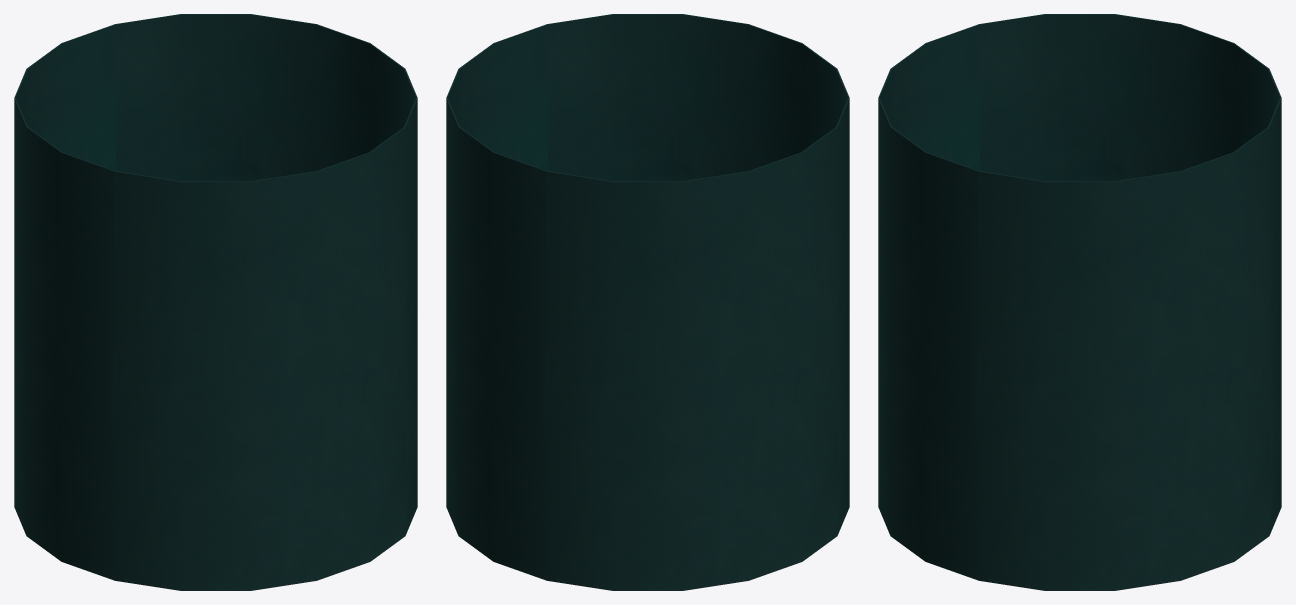
Rendered from Fondo.FBX.
The picture shows the model from 3 angles, left to right: view 1: azimuth 30°, elevation 25°; view 2: azimuth 150°, elevation 25°; view 3: azimuth 270°, elevation 25°; orthographic projection.
Parts seen in each view (by area): view 1: Tube001; view 2: Tube001; view 3: Tube001.
Boxes of the visible parts, x1,y1,x2,y2 form: Tube001: [14, 14, 417, 590]; Tube001: [446, 14, 849, 590]; Tube001: [878, 14, 1281, 590].
Size of the model in its own units: 15806 by 17961 by 16050.
1 material, 1 textured.
